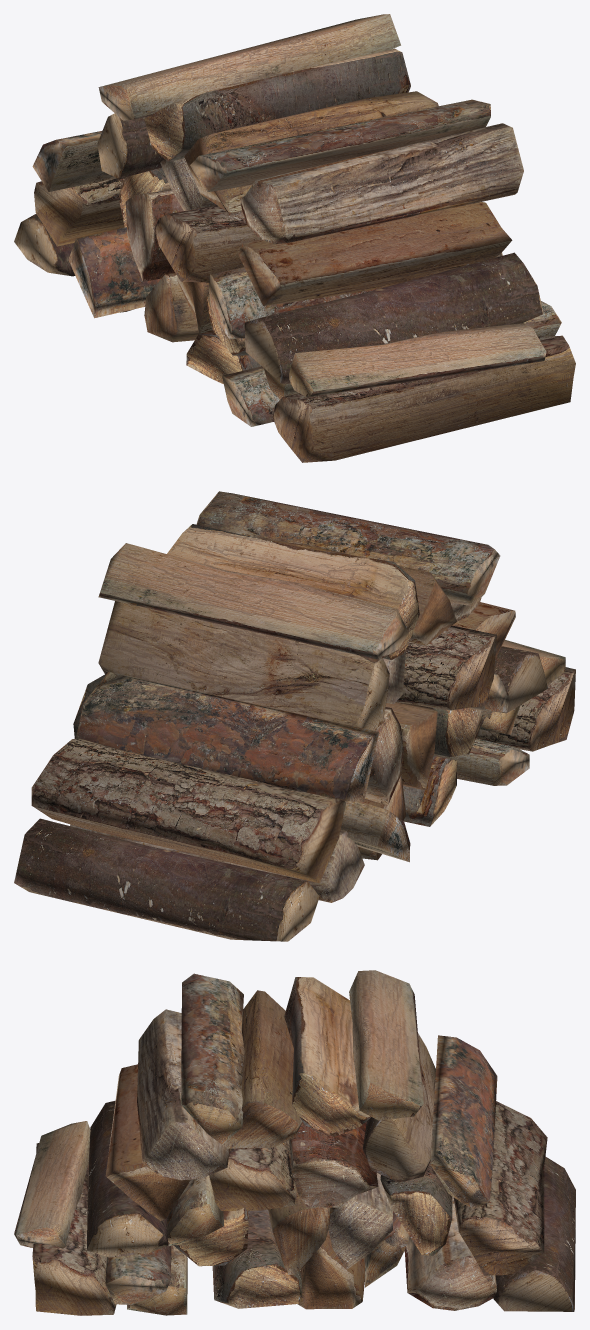
The model's file is Lumber2.fbx.
3 views of the same model, one above another, from view 1: azimuth 30°, elevation 25°; view 2: azimuth 150°, elevation 25°; view 3: azimuth 270°, elevation 25° (orthographic). The views are drawn at different scales.
Visible parts, largest first — view 1: polySurface203; view 2: polySurface203; view 3: polySurface203.
Boxes of the visible parts, bbox=[...] form: polySurface203: bbox=[14, 14, 575, 462]; polySurface203: bbox=[14, 491, 575, 941]; polySurface203: bbox=[14, 970, 575, 1315].
Bounding box in the file's own units: 86.89 × 70.18 × 147.
